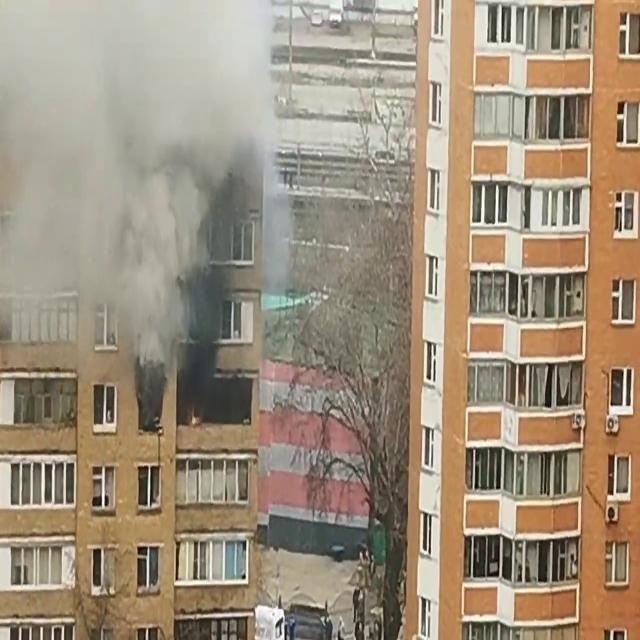Smoke: (0, 0, 294, 381)
